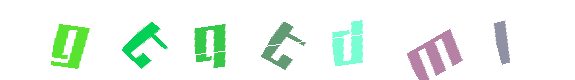D: (249, 0, 329, 80)
G: (29, 0, 109, 80)
L: (411, 0, 491, 80)
M: (282, 0, 362, 80)
Q: (170, 0, 250, 80)
T: (102, 0, 182, 80), (238, 0, 318, 80)
